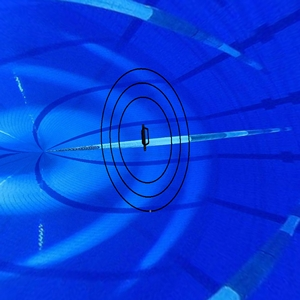circle: (98, 66, 195, 214)
submarine: (136, 123, 158, 154)
